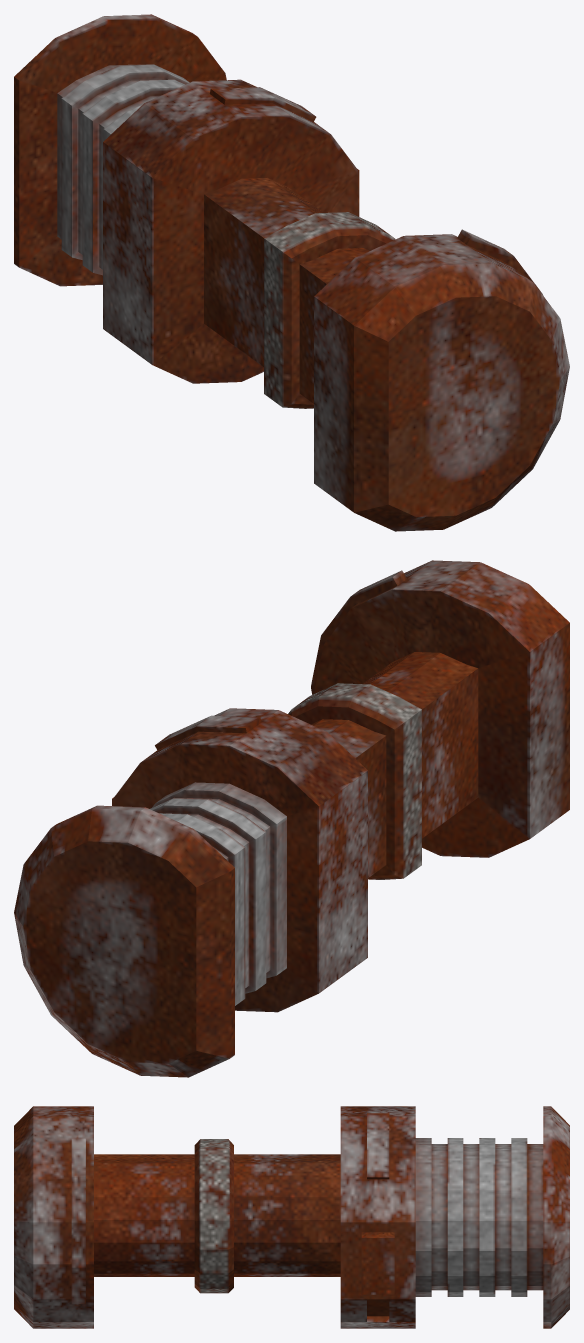
The model's file is WallDeco1.fbx.
3 renders of one model, top to bottom at view 1: azimuth 30°, elevation 25°; view 2: azimuth 150°, elevation 25°; view 3: azimuth 270°, elevation 25°, orthographic. The views are drawn at different scales.
Visible parts, largest first — view 1: WallDeco1; view 2: WallDeco1; view 3: WallDeco1.
Boxes of the visible parts, x1=… form: WallDeco1: x1=14, y1=14, x2=569, y2=531; WallDeco1: x1=14, y1=560, x2=569, y2=1077; WallDeco1: x1=14, y1=1106, x2=569, y2=1328.
Size of the model in its own units: 71.01 by 81.5 by 200.
3 materials, 3 textured.
